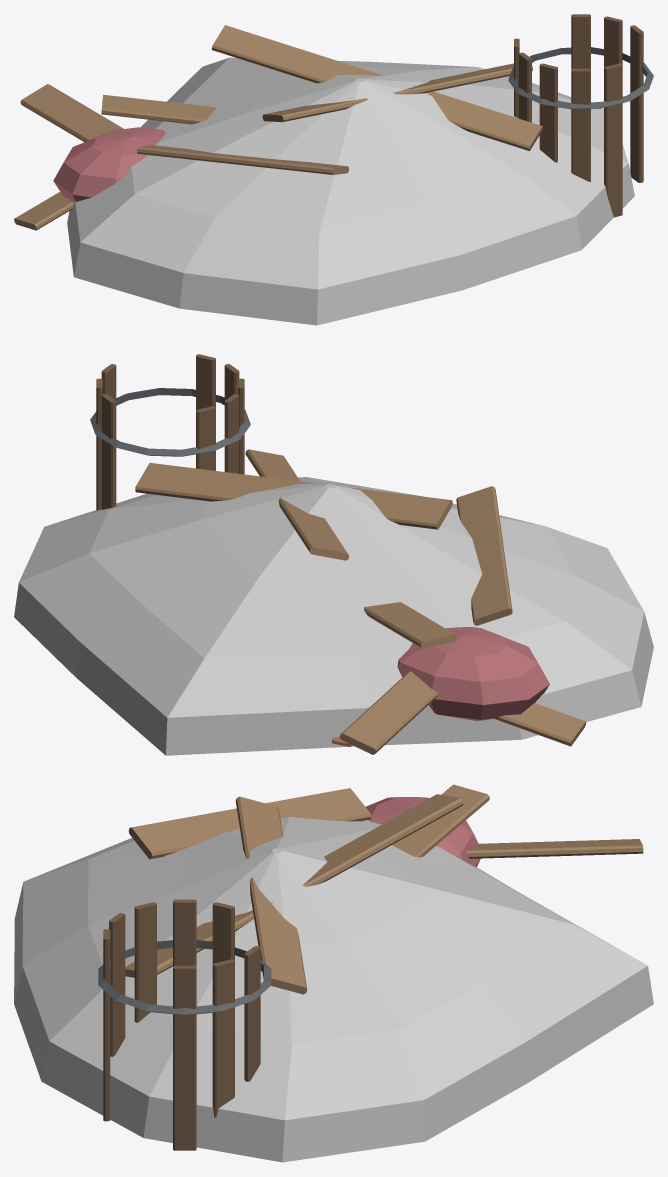
The model's file is refuse_heap.glb.
3 renders of one model, top to bottom at view 1: azimuth 30°, elevation 25°; view 2: azimuth 150°, elevation 25°; view 3: azimuth 270°, elevation 25°, orthographic. The views are drawn at different scales.
Parts seen in each view (by area): view 1: refuse_heap; view 2: refuse_heap; view 3: refuse_heap.
Boxes of the visible parts, <box> form: refuse_heap: <box>14,14,653,325</box>; refuse_heap: <box>14,354,653,755</box>; refuse_heap: <box>14,784,653,1162</box>.
Bounding box in the file's own units: 2.74 × 0.7258 × 2.29.
